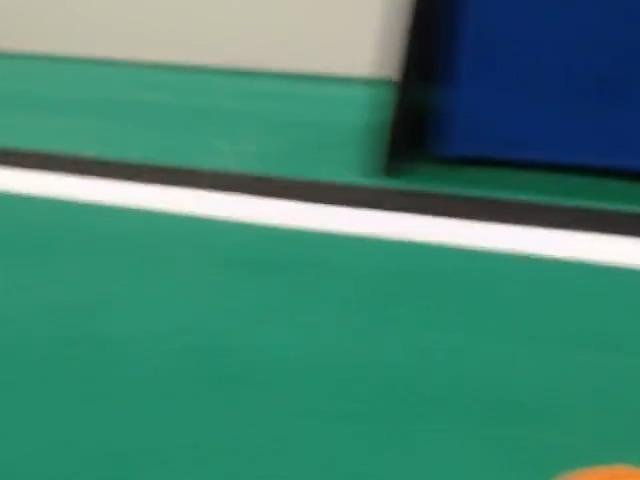Ball: (555, 465, 639, 479)
